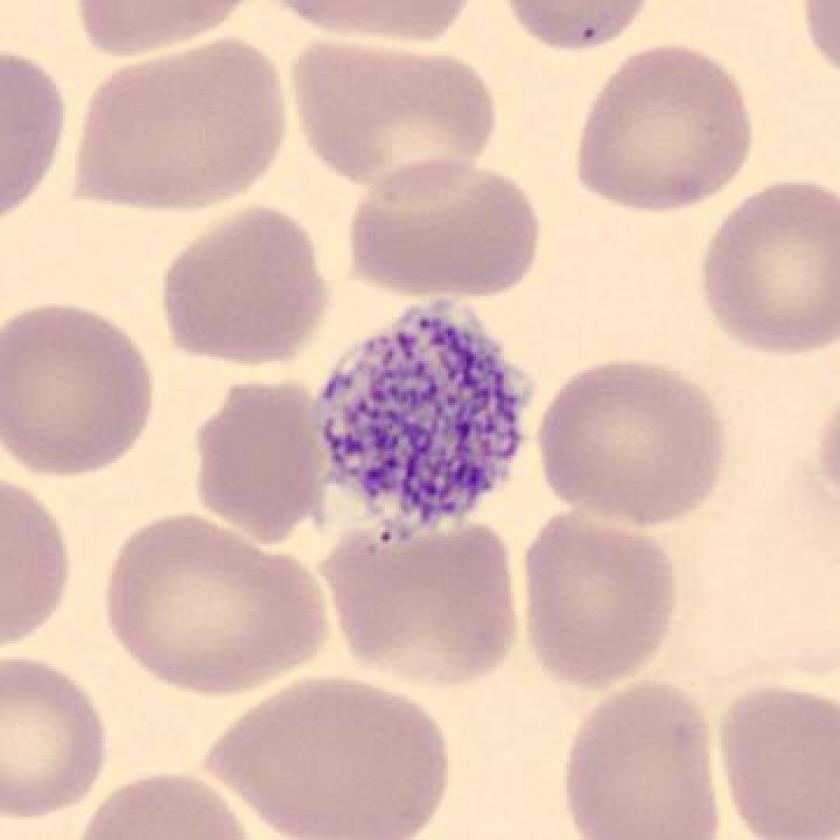platelets: (302, 288, 552, 552)
